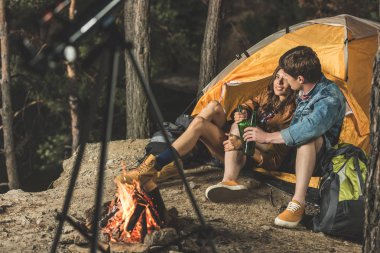fire: (114, 171, 150, 224)
